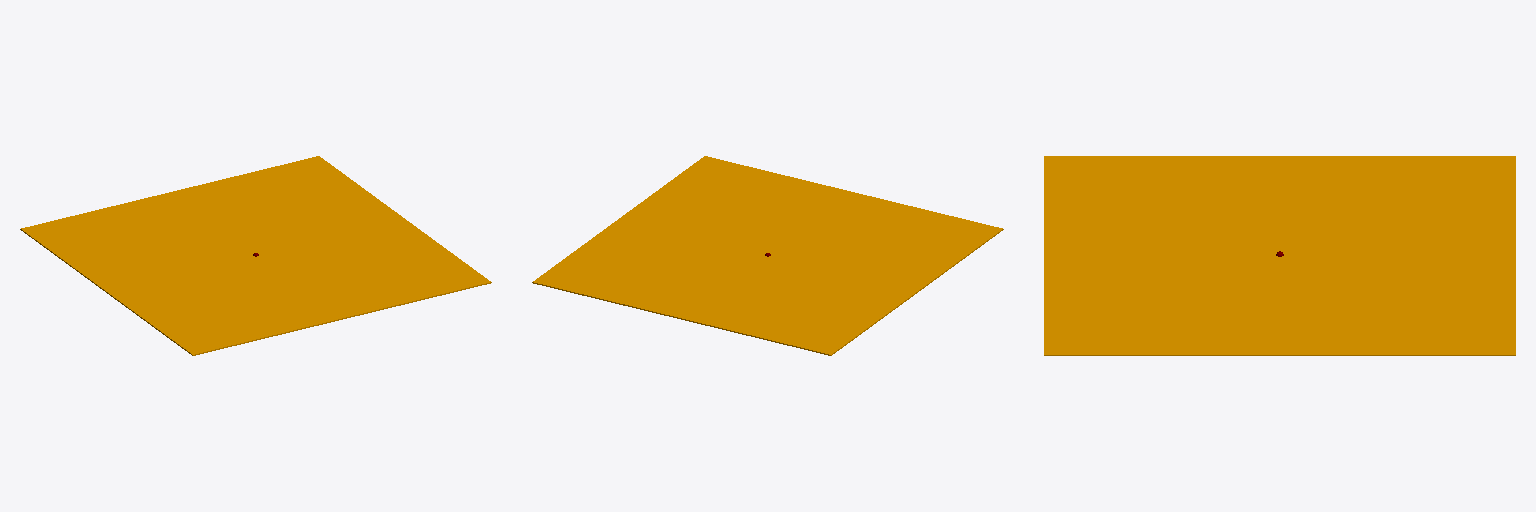
robot.urdf — jumper:
<robot name="jumper">
  <link name="floor">
    <visual>
      <origin xyz="0 0 -0.05"/>
      <geometry>
        <box size="25. 25. 0.1"/>
      </geometry>
    </visual>
  </link>
  
  <joint name="hip_joint" type="planar">
    <parent link="floor"/>
    <child link="hip"/>
    <origin xyz="0 0 0"/>
    <axis xyz="0 1 0"/>
  </joint>

  <link name="hip">
    <inertial>
      <mass value="2.0" />
      <inertia ixx="0.001" ixy="0" ixz="0" iyy="0.001" iyz="0" izz="0.001" />
    </inertial>
    <visual>
      <geometry>
        <sphere radius=".2" />
      </geometry>
      <material name="red">
      	<color rgba="0.5 0. 0. 1" />
      </material>s
    </visual>
  </link>
    
  <joint name="hip_weld" type="fixed">
    <parent link="hip" />
    <child link="upper_leg" />
    <origin xyz="0 0 0" />
  </joint>

  <link name="upper_leg">
    <inertial>
      <origin xyz="0 0 -.4" rpy="0 0 0" />
      <mass value="0.5" />
      <inertia ixx="0.01" ixy="0" ixz="0" iyy="0.01" iyz="0" izz="0.01" />
    </inertial>
    <visual>
      <origin xyz="0 0 -.4" rpy="0 0 0" />
      <geometry>
        <cylinder radius=".1" length="0.8"/>
      </geometry>
      <material name="red" />
    </visual>
  </link>
  
  <joint name="knee_joint" type="revolute">
    <parent link="upper_leg" />
    <child link="knee" />
    <origin xyz="0 0 -.8" />
    <axis xyz="0 1 0" />
  </joint>
  
  <link name="knee">
    <inertial>
      <mass value="1.0" />
      <inertia ixx="0.0005" ixy="0" ixz="0" iyy="0.0005" iyz="0" izz="0.0005" />
    </inertial>
    <visual>
      <geometry>
        <sphere radius=".1" />
      </geometry>
      <material name="black">
      	<color rgba="1. 1. 1. 1" />
      </material>
    </visual>
  </link>
  
  <joint name="knee_weld" type="fixed">
    <parent link="knee" />
    <child link="lower_leg" />
    <origin xyz="0 0 0" />
  </joint>

  <link name="lower_leg">
    <inertial>
      <origin xyz="0 0 -.4" rpy="0 0 0" />
      <mass value="0.5" />
      <inertia ixx="0.005" ixy="0" ixz="0" iyy="0.005" iyz="0" izz="0.005" />
    </inertial>
    <visual>
      <origin xyz="0 0 -.4" rpy="0 0 0" />
      <geometry>
        <cylinder radius=".05" length="0.8"/>
      </geometry>
      <material name="red" />
    </visual>
  </link>
  
  <joint name="ankle" type="fixed">
    <parent link="lower_leg" />
    <child link="foot" />
    <origin xyz="0 0 -0.8"/>
  </joint>
    
  <link name="foot">
    <inertial>
      <mass value=".01" />
      <inertia ixx="0.00001" ixy="0" ixz="0" iyy="0.00001" iyz="0" izz="0.00001" />
    </inertial>
    <visual>
      <geometry>
        <sphere radius=".05" />
      </geometry>
      <material name="yellow">
      	<color rgba="1. 1. 0 1" />
      </material>
    </visual>
    <collision>
      <origin xyz="0 0 0"/>
      <geometry>
        <sphere radius="0"/>
      </geometry>
    </collision>
  </link>
</robot>

--- What the picture shows (computed from the rendered views, not written in the file) ---
The picture shows the robot from 3 angles, left to right: view 1: azimuth 30°, elevation 25°; view 2: azimuth 150°, elevation 25°; view 3: azimuth 270°, elevation 25°; orthographic projection.
Robot: jumper — 6 links, 5 joints (1 revolute, 3 fixed, 1 planar); root link floor; default pose: every joint at zero.
Visible links, largest first — view 1: floor; view 2: floor; view 3: floor.
Link boxes in pixels (x1,y1,x2,y2): floor: (20, 156, 491, 355); floor: (532, 156, 1003, 355); floor: (1044, 156, 1515, 355).
Bounding box of the posed robot: 25 × 25 × 1.85 m (x, y, z).
Geometry: primitives only (box / cylinder / sphere), no mesh files.
